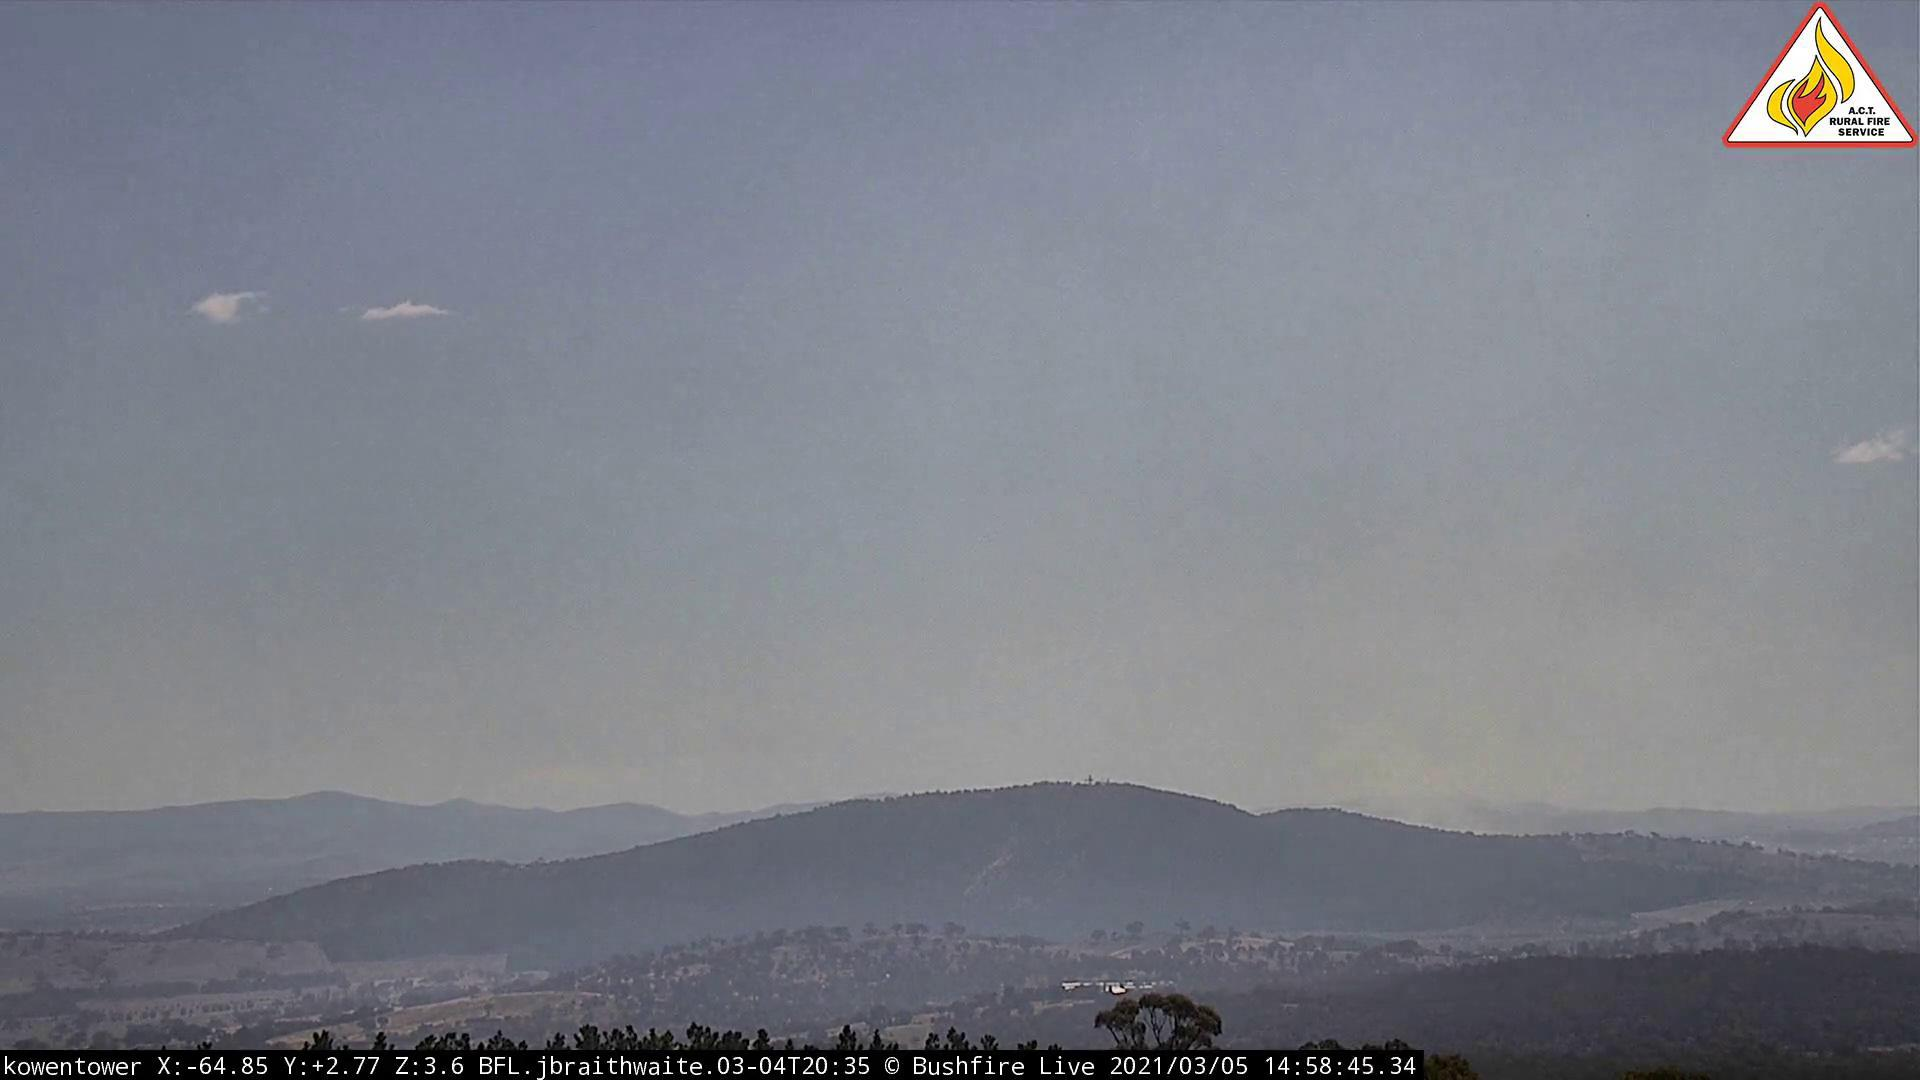Smoke: (1197, 498, 1803, 843)
